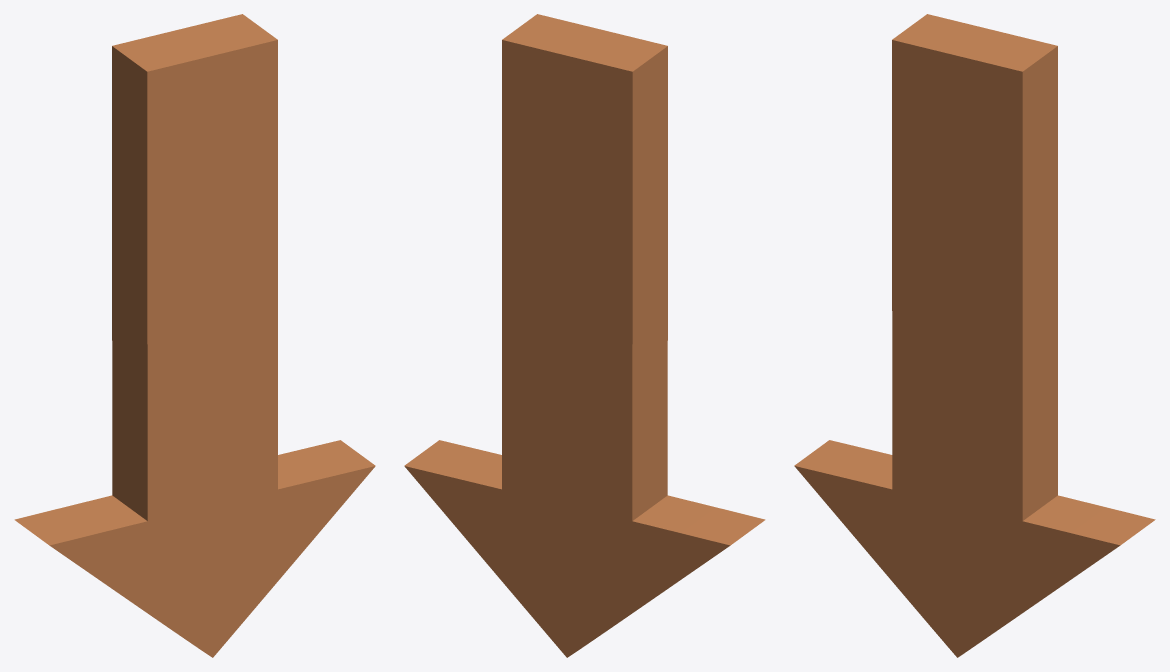
File: 아래방향화살표.glb
The picture shows the model from 3 angles, left to right: view 1: azimuth 30°, elevation 25°; view 2: azimuth 150°, elevation 25°; view 3: azimuth 330°, elevation 25°; orthographic projection.
Parts seen in each view (by area): view 1: Mesh_Mesh_head_geo.001_lambert2SG.001; view 2: Mesh_Mesh_head_geo.001_lambert2SG.001; view 3: Mesh_Mesh_head_geo.001_lambert2SG.001.
Part boxes in pixels (box(x1,y1,x2,y2)): Mesh_Mesh_head_geo.001_lambert2SG.001: box(14, 14, 375, 657); Mesh_Mesh_head_geo.001_lambert2SG.001: box(404, 14, 765, 657); Mesh_Mesh_head_geo.001_lambert2SG.001: box(794, 14, 1155, 657).
Bounding box in the file's own units: 26.66 × 47 × 5.
